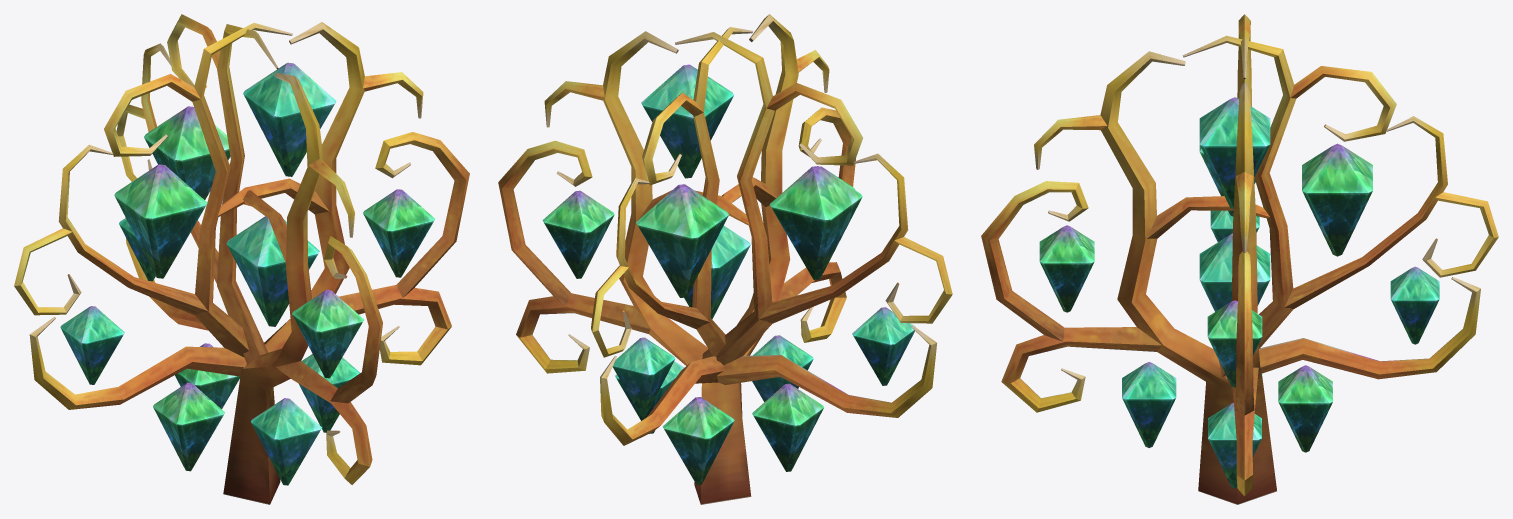
The model's file is botany_100002_02.FBX.
3 renders of one model, left to right at view 1: azimuth 30°, elevation 25°; view 2: azimuth 150°, elevation 25°; view 3: azimuth 270°, elevation 25°, orthographic.
Visible parts, largest first — view 1: botany_100002_02; view 2: botany_100002_02; view 3: botany_100002_02.
Part boxes in pixels (left/top/right/bottom): botany_100002_02: left=14, top=14, right=469, bottom=504; botany_100002_02: left=498, top=14, right=952, bottom=504; botany_100002_02: left=981, top=14, right=1498, bottom=504.
Bounding box in the file's own units: 82.07 × 79.67 × 82.07.
